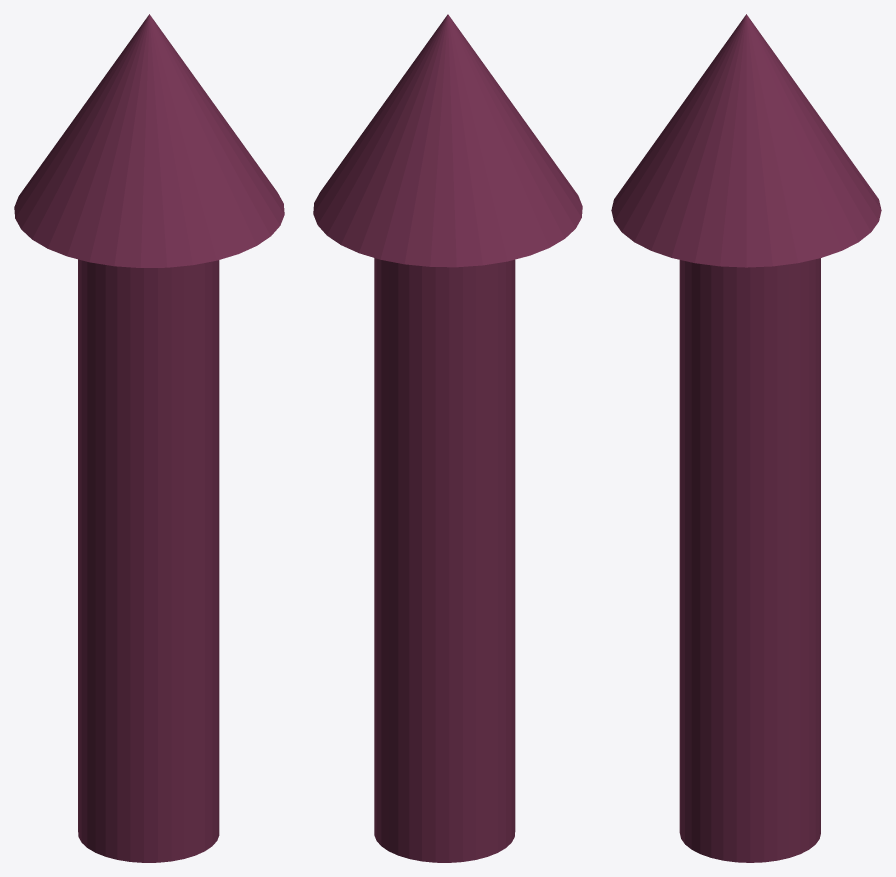
The model's file is arrow.obj.
The picture shows the model from 3 angles, left to right: view 1: azimuth 30°, elevation 25°; view 2: azimuth 150°, elevation 25°; view 3: azimuth 270°, elevation 25°; orthographic projection.
Parts seen in each view (by area): view 1: Cylinder; view 2: Cylinder; view 3: Cylinder.
Boxes of the visible parts, bbox=[...] form: Cylinder: bbox=[14, 14, 284, 862]; Cylinder: bbox=[313, 14, 582, 862]; Cylinder: bbox=[611, 14, 881, 862].
Size of the model in its own units: 0.988 by 3.3 by 0.988.
1 material, 1 textured.
